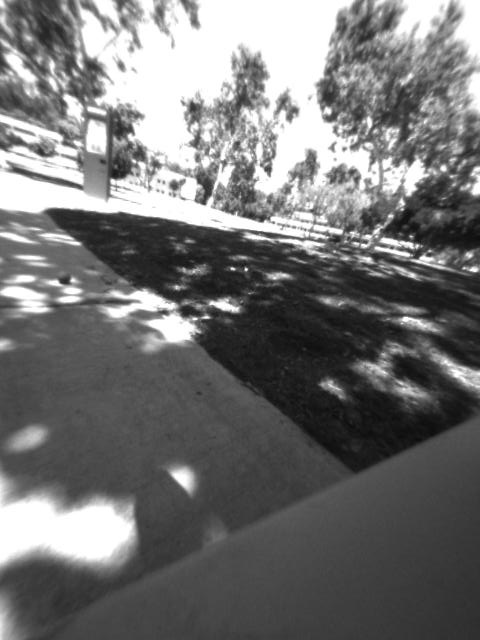dogtoy: (50, 264, 82, 292)
